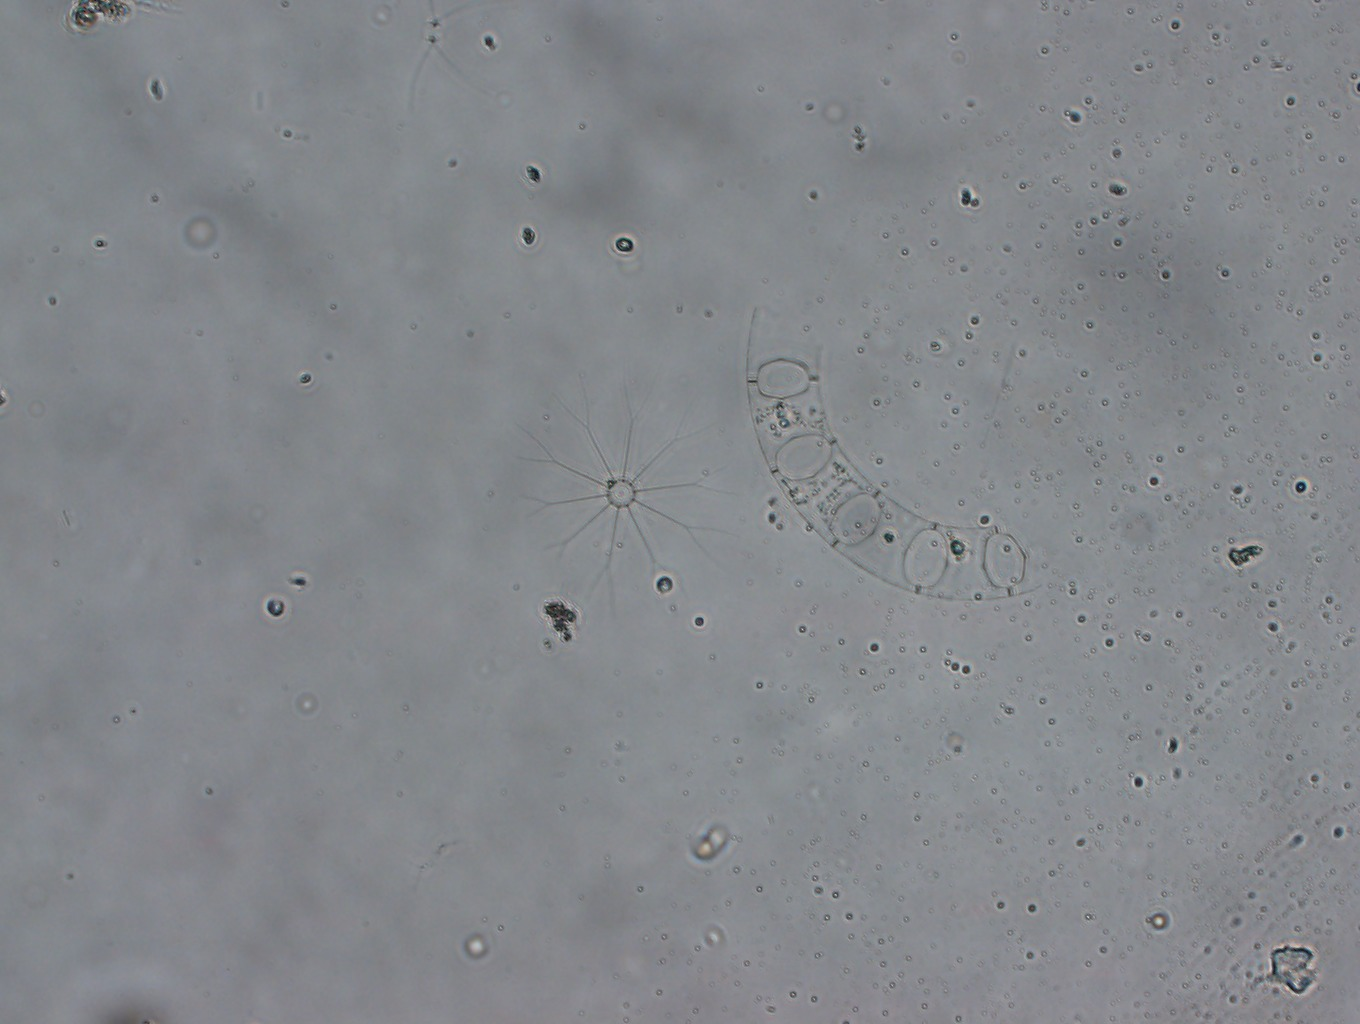bacteriastrum: (507, 378, 735, 605)
eucampia: (746, 307, 1041, 601)
